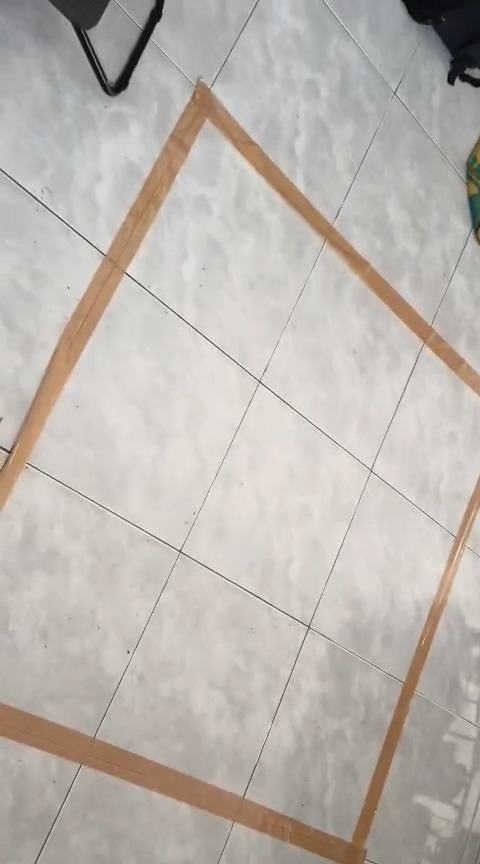floor marking: (0, 82, 479, 507), (0, 704, 364, 863), (354, 479, 479, 839)
